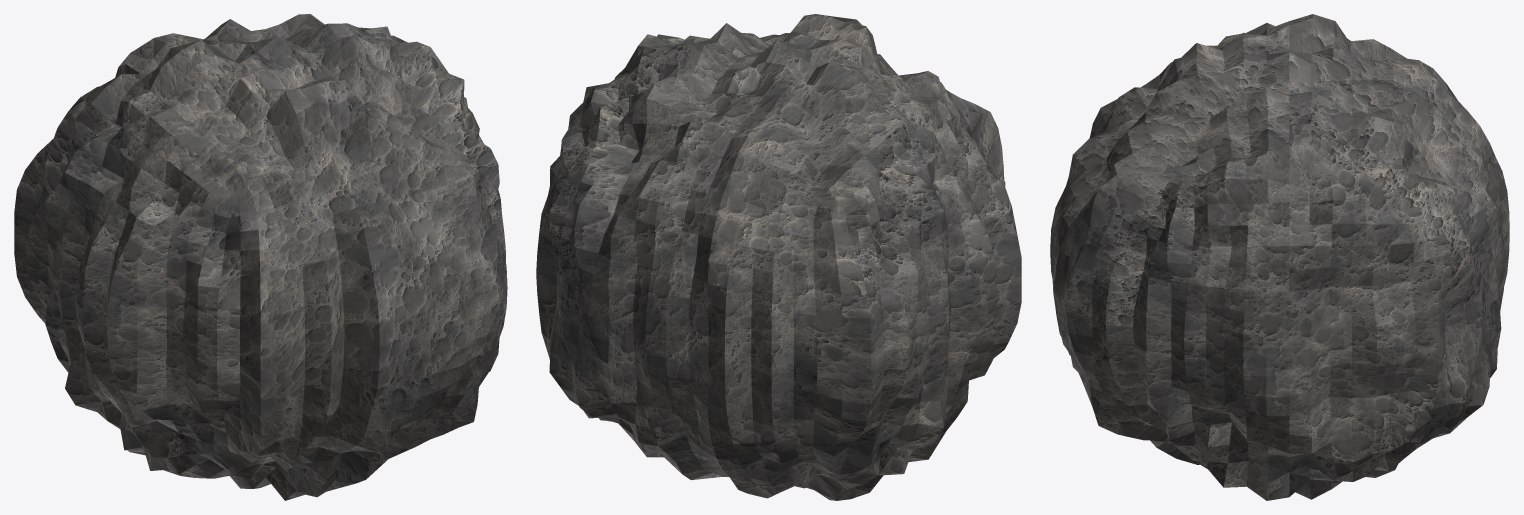
The model's file is asteroid174.obj.
The picture shows the model from 3 angles, left to right: view 1: azimuth 30°, elevation 25°; view 2: azimuth 150°, elevation 25°; view 3: azimuth 270°, elevation 25°; orthographic projection. The views are drawn at different scales.
Visible parts, largest first — view 1: Cube_Cube.002; view 2: Cube_Cube.002; view 3: Cube_Cube.002.
Part boxes in pixels (box(x1,y1,x2,y2)): Cube_Cube.002: box(14, 14, 507, 500); Cube_Cube.002: box(536, 14, 1021, 500); Cube_Cube.002: box(1050, 14, 1509, 500).
Size of the model in its own units: 1.73 by 1.77 by 1.74.
